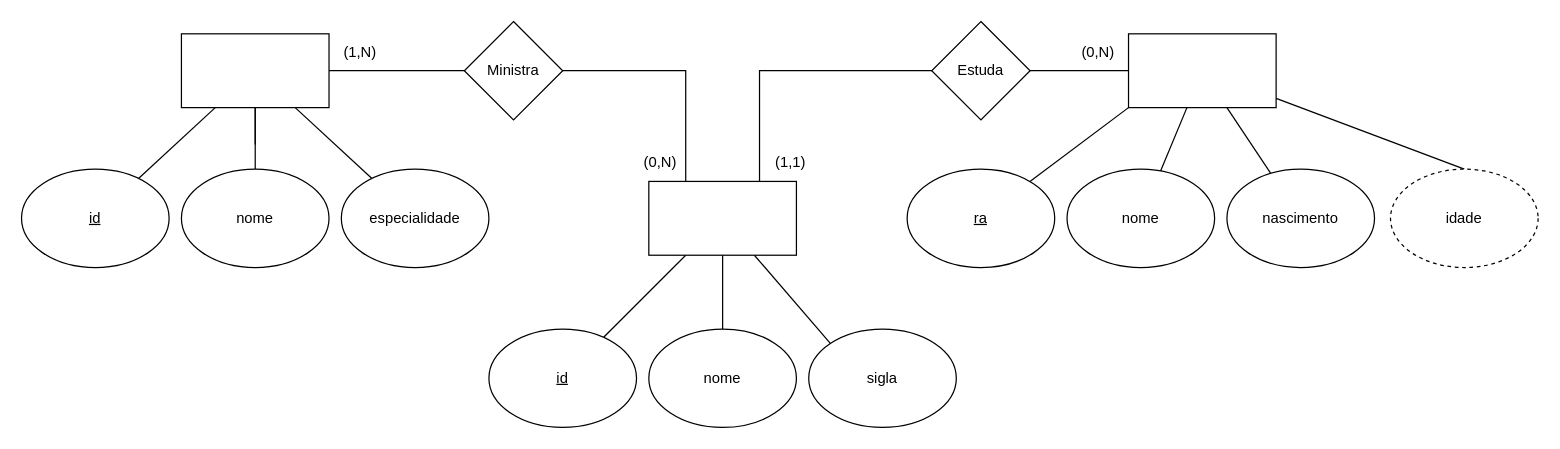
This 1560x449 diagram has some shape labels left out. Here are the shapes that lost their labels. From the top down, the centre of each, then its label:
At (x=254, y=70): "Professor".
At (x=1201, y=70): "Aluno".
At (x=722, y=217): "Turma".
